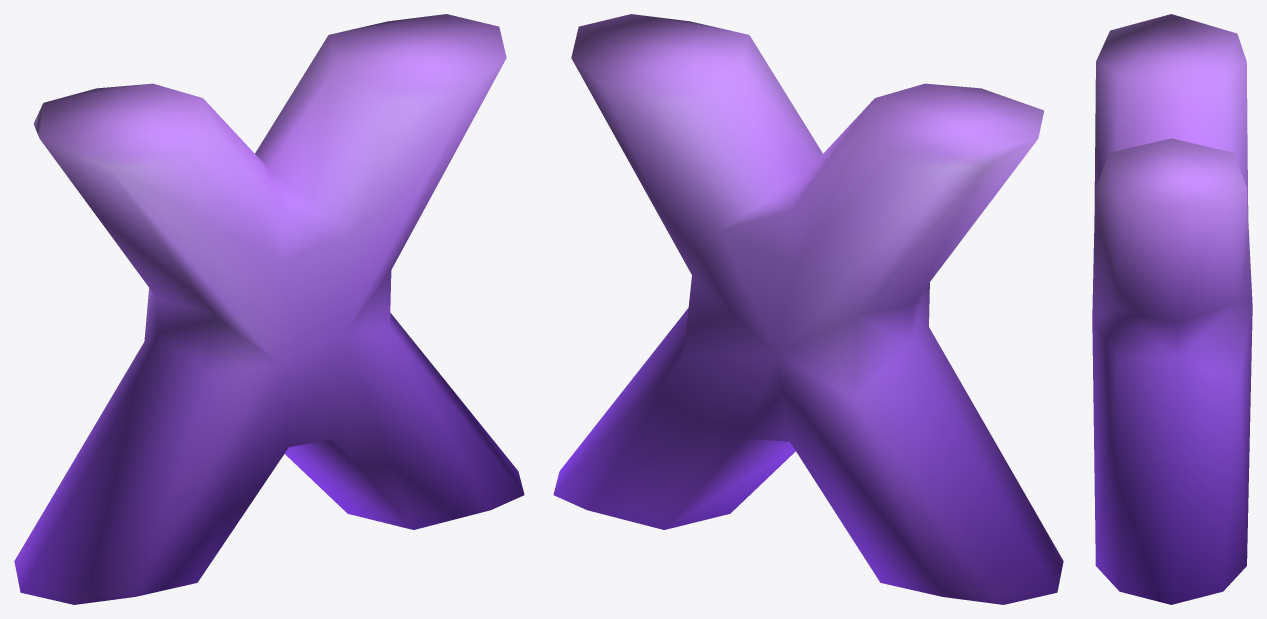
3 views of the same model, side by side, from view 1: azimuth 30°, elevation 25°; view 2: azimuth 150°, elevation 25°; view 3: azimuth 270°, elevation 25° (orthographic). The views are drawn at different scales.
Visible parts, largest first — view 1: Processed_Mesh0_Geometry; view 2: Processed_Mesh0_Geometry; view 3: Processed_Mesh0_Geometry.
Boxes of the visible parts, x1=… form: Processed_Mesh0_Geometry: x1=14, y1=14, x2=524, y2=604; Processed_Mesh0_Geometry: x1=553, y1=14, x2=1063, y2=604; Processed_Mesh0_Geometry: x1=1092, y1=14, x2=1252, y2=604.
Size of what is drawn, in the model's own units: 0.0675 by 0.0584 by 0.0217.
1 material, 1 textured.
